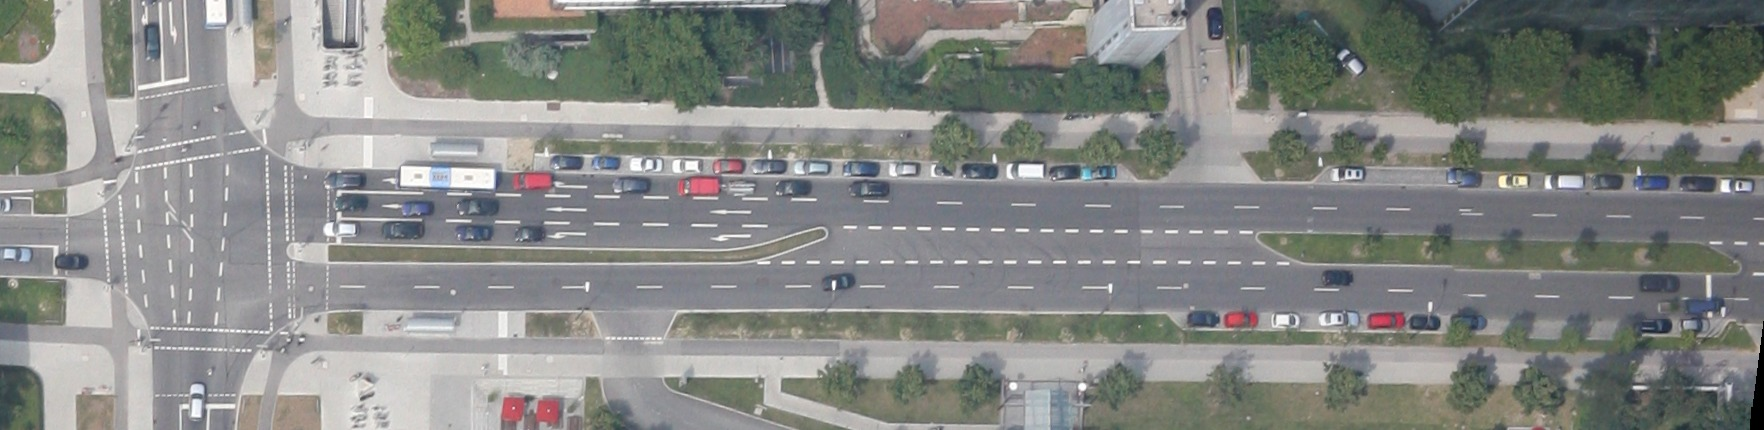car: (1334, 46, 1367, 79), (454, 197, 497, 215), (512, 171, 551, 190), (678, 176, 718, 195), (1638, 274, 1678, 292), (1684, 296, 1723, 314), (187, 382, 205, 421), (848, 179, 888, 196), (382, 221, 421, 238), (1205, 5, 1223, 39), (1006, 162, 1043, 179), (1318, 311, 1358, 326), (821, 272, 855, 290), (1446, 169, 1480, 186), (54, 252, 87, 270), (1543, 173, 1583, 188), (323, 220, 357, 236), (612, 177, 648, 192), (841, 160, 877, 176), (333, 194, 366, 210), (775, 179, 810, 195), (1367, 311, 1402, 326), (1678, 176, 1713, 191), (1187, 310, 1218, 326), (1224, 310, 1255, 326), (1450, 313, 1484, 329), (144, 25, 159, 61), (324, 173, 360, 188), (1270, 310, 1299, 328), (1329, 165, 1363, 180), (793, 160, 828, 174), (0, 247, 31, 262), (1321, 269, 1352, 285), (727, 178, 753, 197), (1633, 174, 1667, 189), (454, 226, 490, 240), (514, 225, 544, 241), (1408, 313, 1439, 329), (1719, 178, 1752, 192), (1082, 164, 1115, 179), (962, 163, 994, 178), (751, 159, 784, 173), (630, 156, 661, 171), (1590, 173, 1620, 188), (1048, 164, 1079, 179), (712, 159, 742, 173), (550, 154, 580, 169), (400, 200, 429, 215), (1641, 317, 1669, 332), (1678, 319, 1707, 333), (1498, 173, 1527, 188), (672, 158, 700, 172), (888, 161, 917, 174), (591, 155, 619, 169), (930, 162, 952, 176), (1656, 301, 1677, 313)
